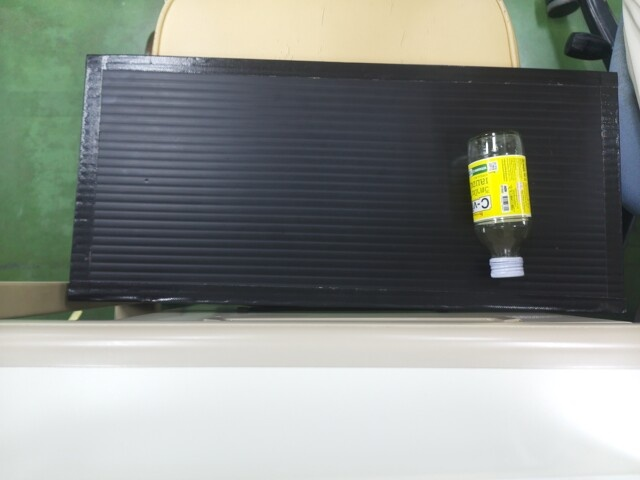glass_bottle: (469, 133, 532, 279)
